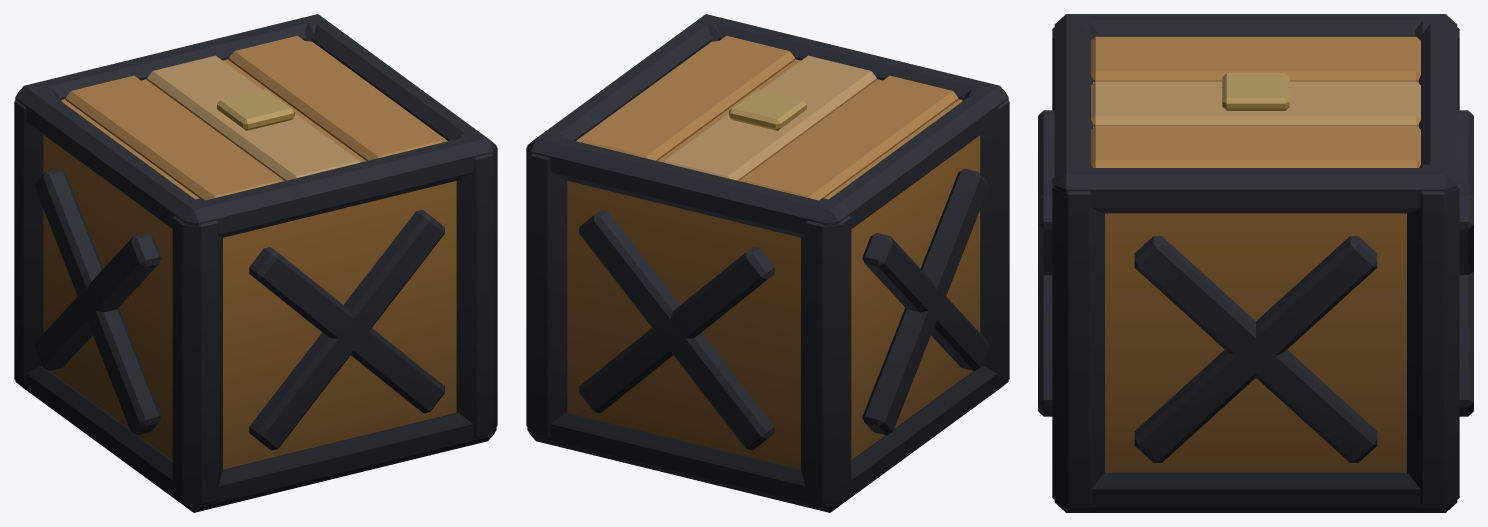
Rendered from reliquary-crate.glb.
3 views of the same model, side by side, from view 1: azimuth 30°, elevation 25°; view 2: azimuth 150°, elevation 25°; view 3: azimuth 270°, elevation 25° (orthographic). The views are drawn at different scales.
Parts seen in each view (by area): view 1: mesh_reliquary_crate; view 2: mesh_reliquary_crate; view 3: mesh_reliquary_crate.
Boxes of the visible parts, box(x1,y1,x2,y2) form: mesh_reliquary_crate: box(14, 14, 497, 512); mesh_reliquary_crate: box(526, 14, 1009, 512); mesh_reliquary_crate: box(1038, 14, 1473, 512).
Size of the model in its own units: 0.91 by 0.8 by 0.91.
